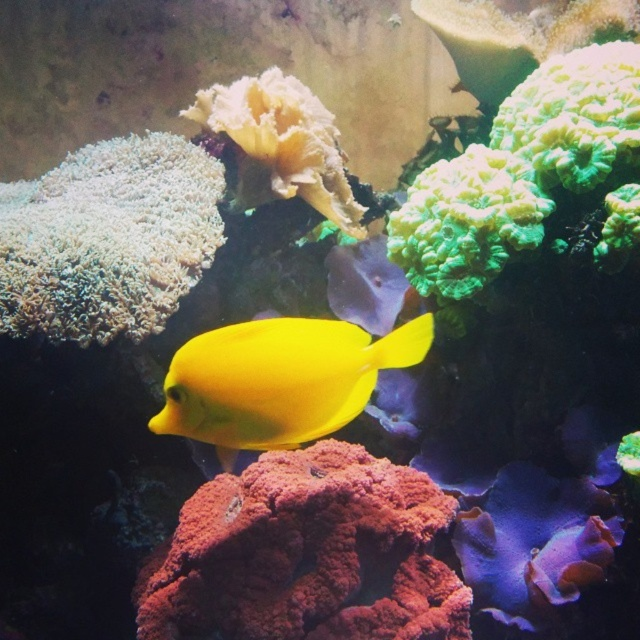Fish: (147, 311, 436, 450)
